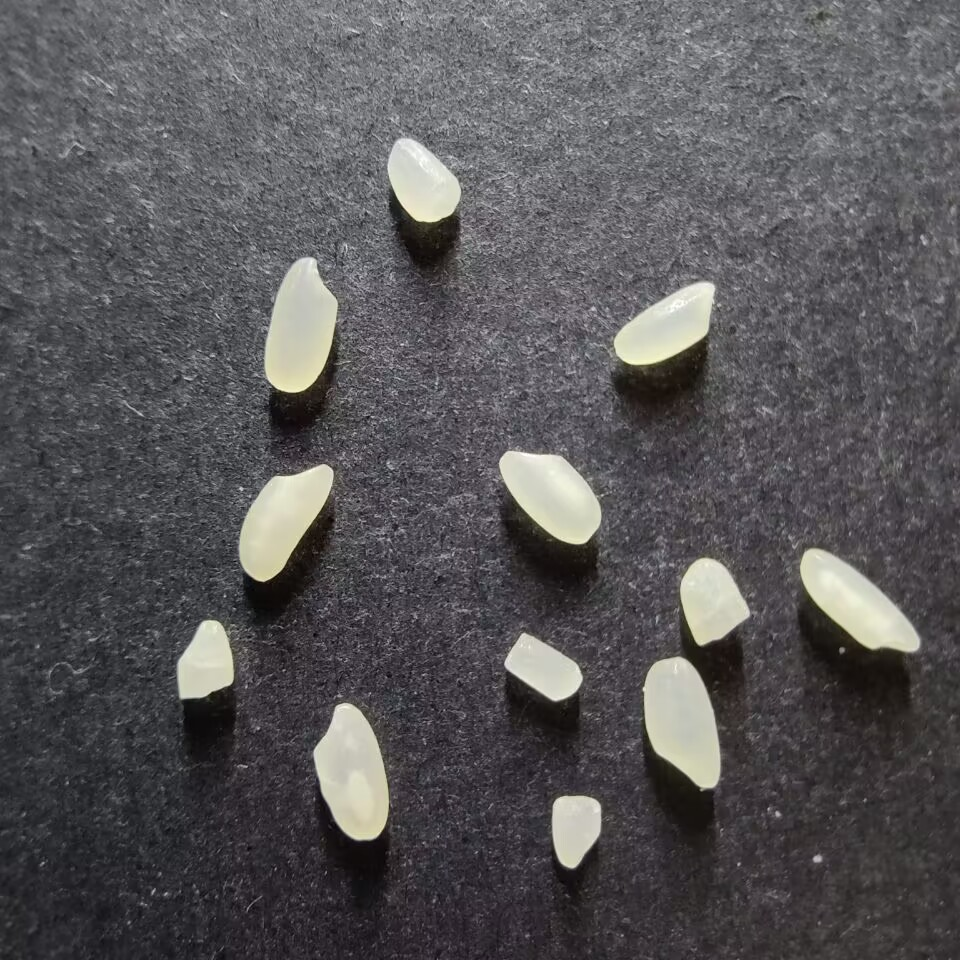broken: (679, 557, 751, 646), (386, 137, 460, 223), (503, 632, 583, 701), (176, 619, 234, 700), (550, 794, 602, 869)
rice: (799, 548, 921, 653), (237, 463, 334, 582), (312, 703, 389, 841), (642, 656, 720, 789), (263, 256, 338, 393), (498, 450, 602, 545), (613, 281, 716, 365)
